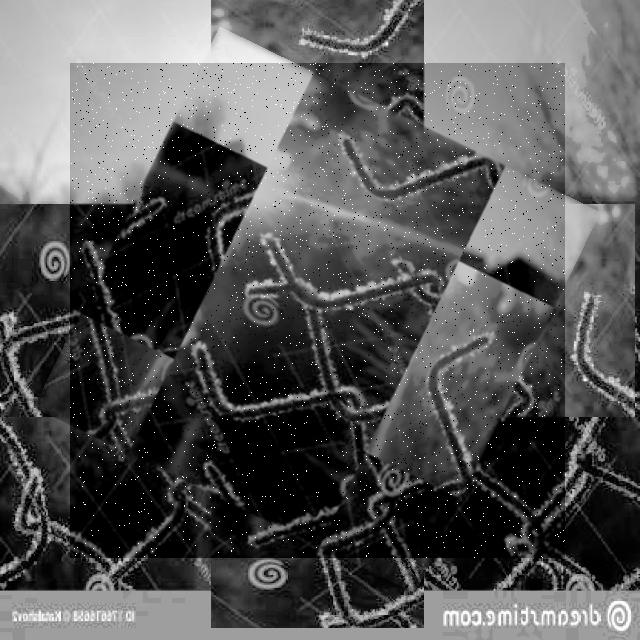anomaly-fence: (70, 63, 565, 558)
